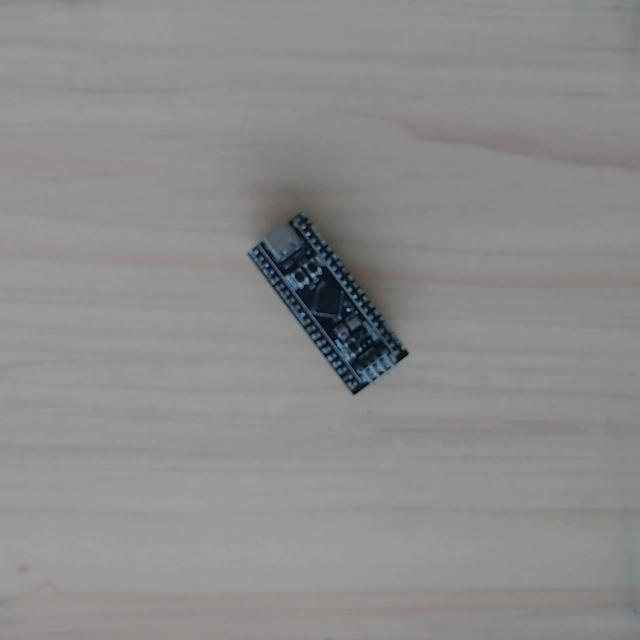STM32-Blackpill: (244, 209, 411, 396)
